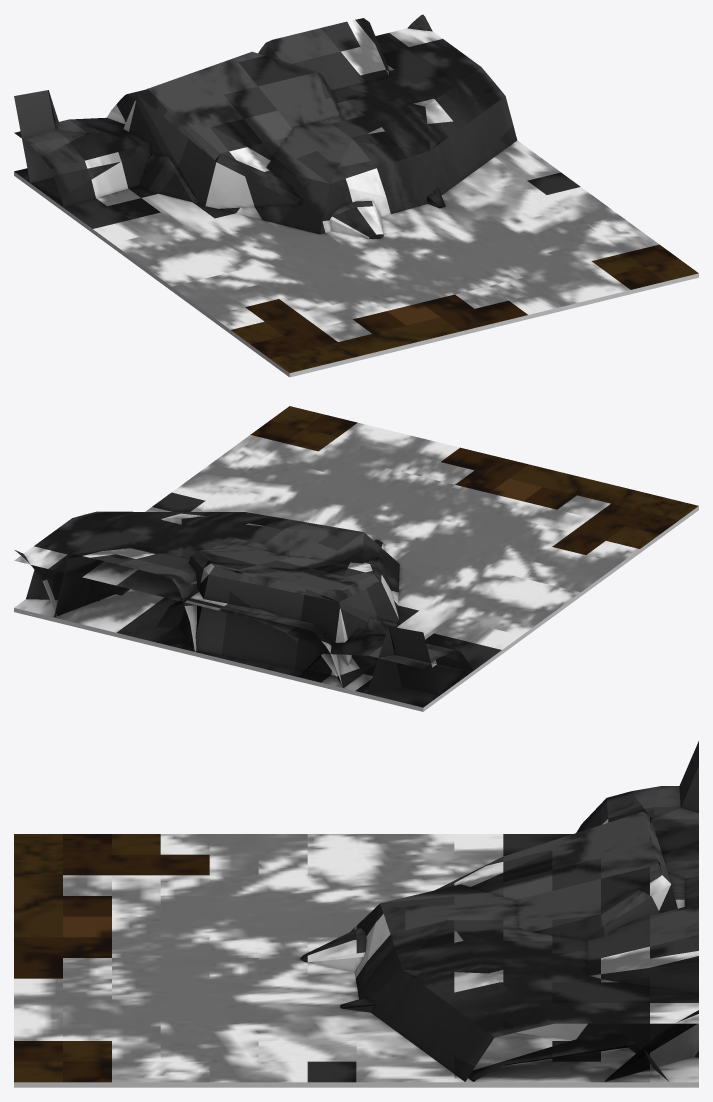
The model's file is newshe-41.glb.
The picture shows the model from 3 angles, top to bottom: view 1: azimuth 30°, elevation 25°; view 2: azimuth 150°, elevation 25°; view 3: azimuth 270°, elevation 25°; orthographic projection. The views are drawn at different scales.
Visible parts, largest first — view 1: newshe-41; view 2: newshe-41; view 3: newshe-41.
Part boxes in pixels (<box>): newshe-41: <box>14,14,698,377</box>; newshe-41: <box>14,406,698,711</box>; newshe-41: <box>14,741,698,1087</box>.
Size of the model in its own units: 2 by 0.375 by 2.33.
12 materials, 12 textured.
